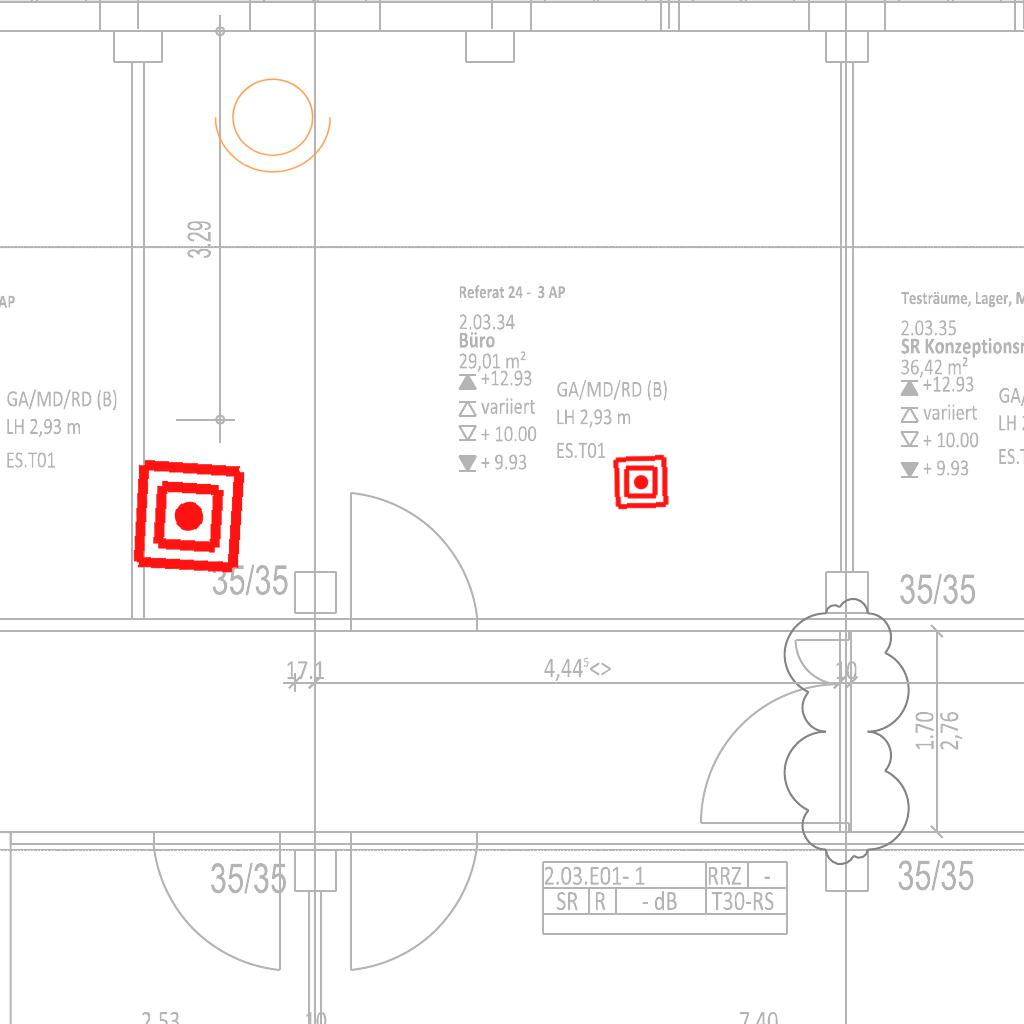NAM-Nichtautomatischer_Melder: (128, 456, 249, 577), (612, 453, 670, 511)
Scheinwerfer_fuer_Alarmbeleuchtung: (210, 66, 342, 178)
